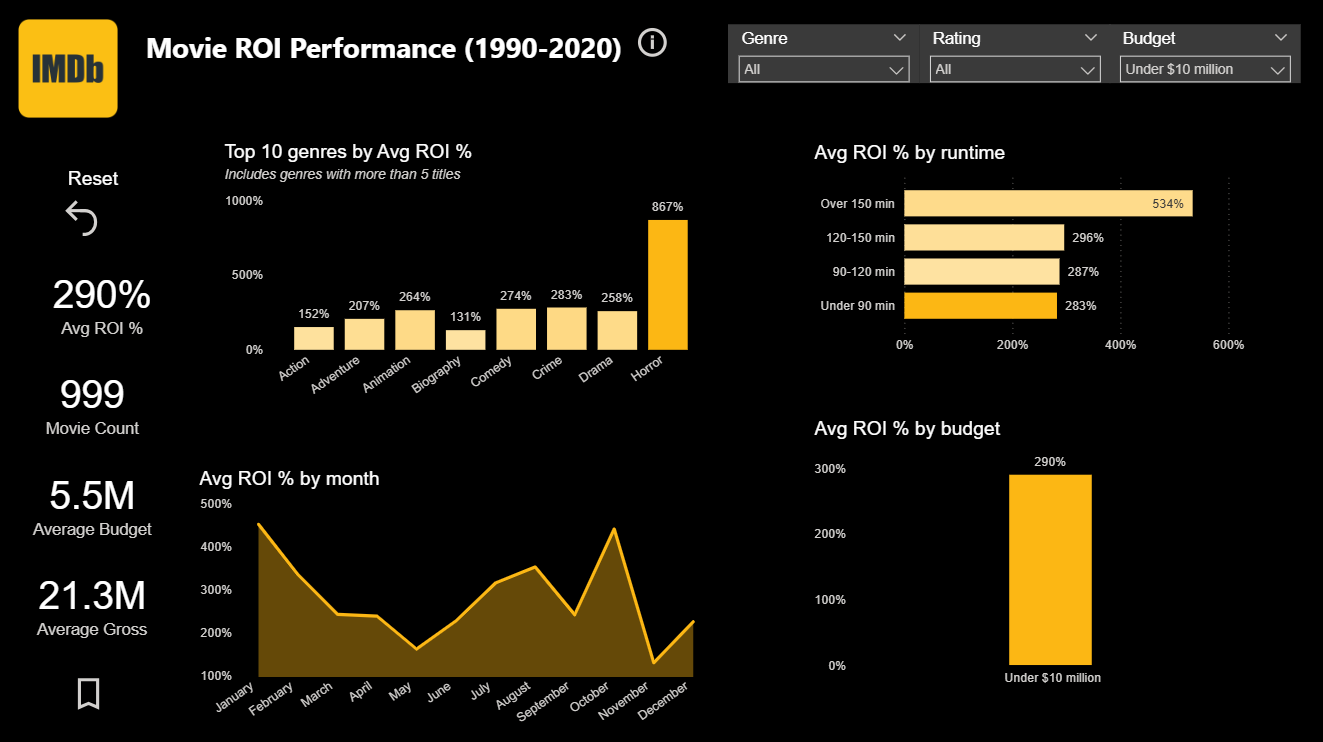

Layout of this report page (visuals, bound fields, positions):
{"tool":"powerbi","page":{"name":"Overview & Insights","canvas":[1280,720],"ordinal":0},"visuals":[{"type":"image","box":[9.7,9.7,115.8,117],"z":0},{"type":"textbox","box":[137.5,24.1,475.3,49.5],"z":1000},{"type":"clusteredColumnChart","title":"Top 10 genres by Avg ROI %","fields":{"Category":["vw_MovieROI_Fact.genre"],"Y":["vw_MovieROI_Fact.Portfolio ROI %"]},"box":[213.5,137.5,477.8,266.6],"z":2000},{"type":"areaChart","title":"Avg ROI % by month","fields":{"Category":["vw_MovieROI_Fact.release_date.Variation.Date Hierarchy.Month"],"Y":["vw_MovieROI_Fact.Portfolio ROI %"]},"box":[189,453,502.1,266.9],"z":3000},{"type":"slicer","fields":{"Values":["vw_MovieROI_Fact.genre"]},"box":[704.1,24.9,185.1,57],"z":4000},{"type":"slicer","fields":{"Values":["vw_MovieROI_Fact.rating"]},"box":[889.2,24.9,185.1,57],"z":5000},{"type":"slicer","fields":{"Values":["vw_MovieROI_Fact.budget_category"]},"box":[1072.5,24.9,185.1,57],"z":6000},{"type":"clusteredBarChart","title":"Avg ROI % by runtime","fields":{"Category":["vw_MovieROI_Fact.runtime_category"],"Y":["vw_MovieROI_Fact.Portfolio ROI %"]},"box":[783,138.7,429.5,212.3],"z":7000},{"type":"clusteredColumnChart","title":"Avg ROI % by budget","fields":{"Category":["vw_MovieROI_Fact.budget_category"],"Y":["vw_MovieROI_Fact.Portfolio ROI %"]},"box":[783,405.4,429.5,266.6],"z":8000},{"type":"card","fields":{"Values":["vw_MovieROI_Fact.Portfolio ROI %"]},"box":[0,244.9,201.5,96.5],"z":9000},{"type":"card","fields":{"Values":["vw_MovieROI_Fact.Average Budget"]},"box":[10.1,438.6,163,96.7],"z":10000},{"type":"card","fields":{"Values":["vw_MovieROI_Fact.Average Gross"]},"box":[9.7,535.7,162.9,96.5],"z":11000},{"type":"card","fields":{"Values":["vw_MovieROI_Fact.Movie Count"]},"box":[10.1,341.9,163,96.7],"z":12000},{"type":"actionButton","title":"Reset","box":[57.9,164.1,67.6,71.2],"z":13000},{"type":"actionButton","box":[612.9,24.1,43.4,37.4],"z":14000},{"type":"actionButton","box":[67.6,651.5,43.4,39.8],"z":15000}]}

Visuals, with their boxes in screenshot pixels (x1, y1, x2, y2), scaled from the page's 1280x720 canvas onto the 1323x742 screenshot:
image: bbox=(10, 10, 130, 131)
textbox: bbox=(142, 25, 633, 76)
"Top 10 genres by Avg ROI %" clusteredColumnChart: bbox=(221, 142, 715, 416)
"Avg ROI % by month" areaChart: bbox=(195, 467, 714, 741)
slicer - vw_MovieROI_Fact.genre: bbox=(728, 26, 919, 84)
slicer - vw_MovieROI_Fact.rating: bbox=(919, 26, 1110, 84)
slicer - vw_MovieROI_Fact.budget_category: bbox=(1109, 26, 1300, 84)
"Avg ROI % by runtime" clusteredBarChart: bbox=(809, 143, 1253, 362)
"Avg ROI % by budget" clusteredColumnChart: bbox=(809, 418, 1253, 693)
card - vw_MovieROI_Fact.Portfolio ROI %: bbox=(0, 252, 208, 352)
card - vw_MovieROI_Fact.Average Budget: bbox=(10, 452, 179, 552)
card - vw_MovieROI_Fact.Average Gross: bbox=(10, 552, 178, 652)
card - vw_MovieROI_Fact.Movie Count: bbox=(10, 352, 179, 452)
"Reset" actionButton: bbox=(60, 169, 130, 242)
actionButton: bbox=(633, 25, 678, 63)
actionButton: bbox=(70, 671, 115, 712)
